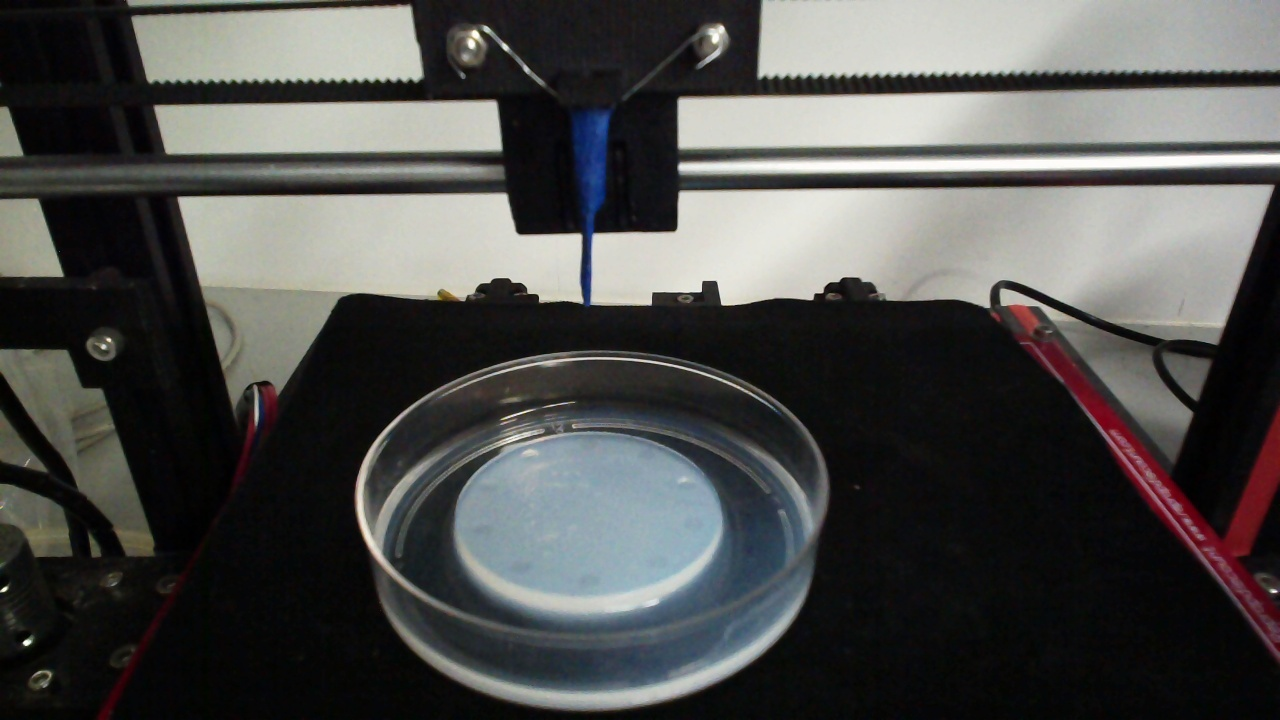groove: (506, 560, 532, 578), (643, 554, 669, 572), (681, 515, 706, 533), (576, 571, 602, 588), (472, 519, 496, 536), (675, 477, 699, 494), (633, 446, 656, 462), (576, 436, 600, 451), (477, 476, 499, 492), (520, 449, 538, 464)
needle: (574, 109, 609, 305)
